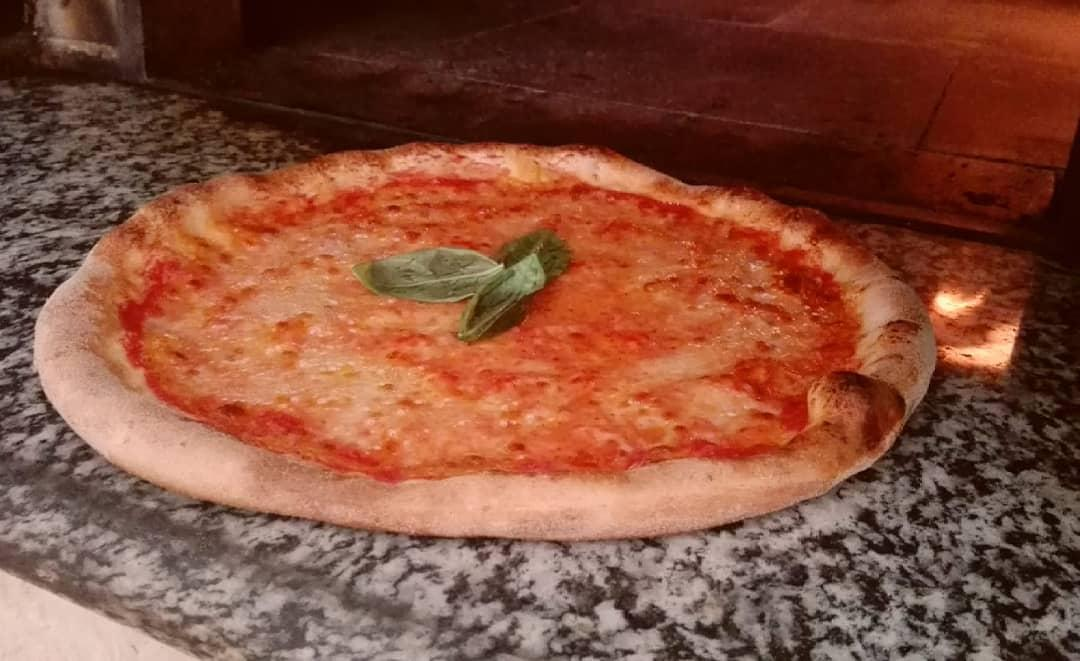Basil: (353, 247, 504, 302), (459, 254, 545, 342), (505, 229, 571, 282)
Pizza: (34, 140, 941, 536)
